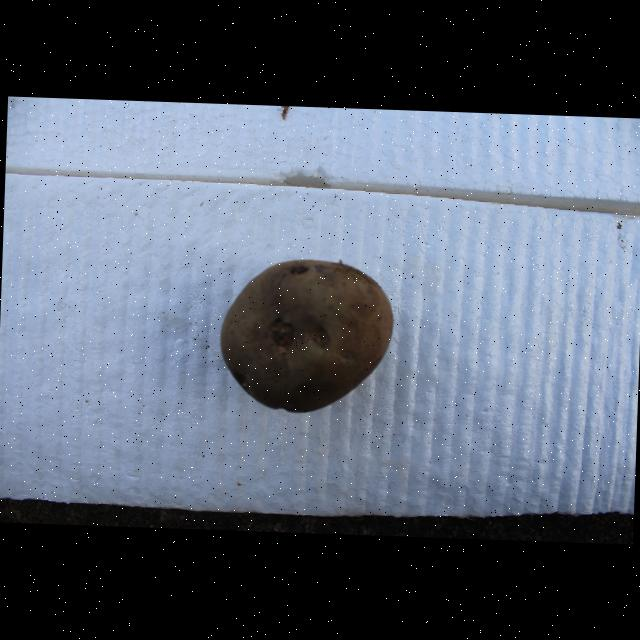Diseased-fungal potato: (243, 223, 427, 386)
